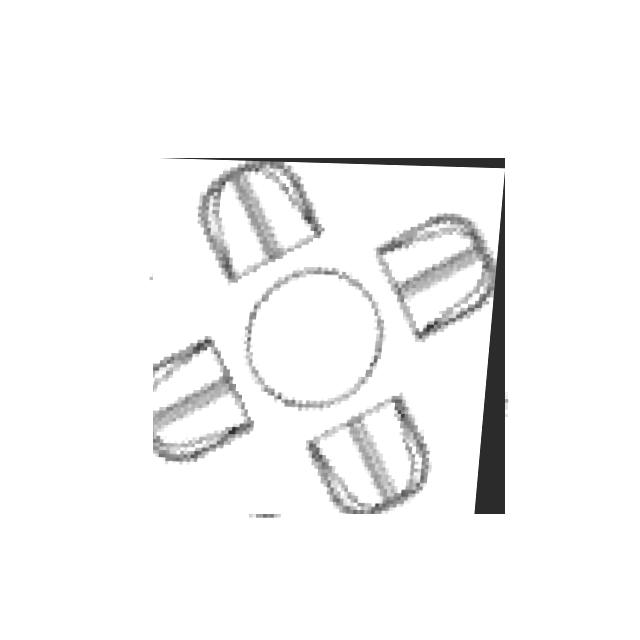table: (153, 158, 505, 514)
